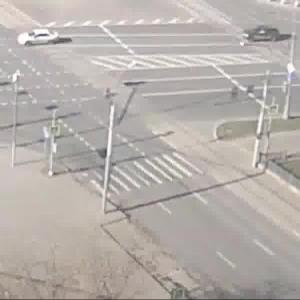car: (237, 26, 290, 46), (17, 29, 64, 46)
